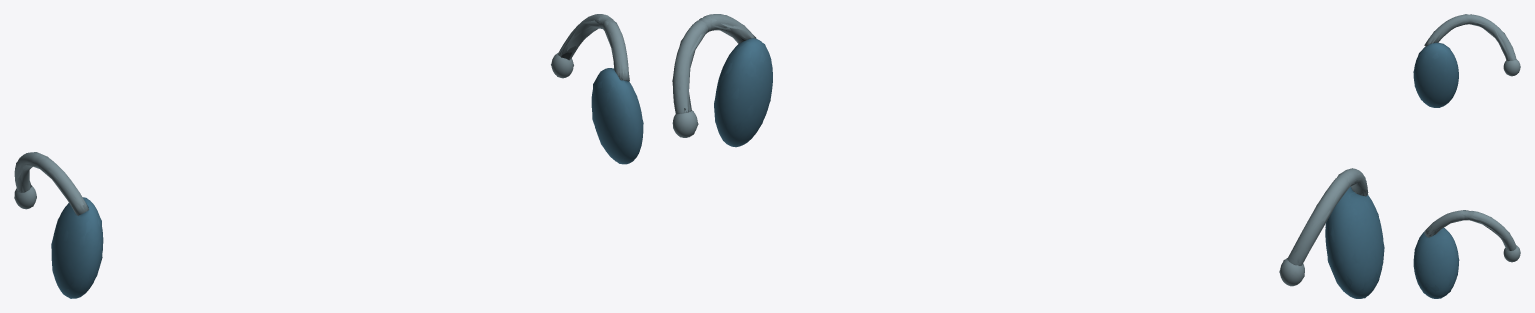
Rendered from hearing-aids.glb.
The picture shows the model from 3 angles, left to right: view 1: azimuth 30°, elevation 25°; view 2: azimuth 150°, elevation 25°; view 3: azimuth 270°, elevation 25°; orthographic projection. The views are drawn at different scales.
Parts seen in each view (by area): view 1: near, mid, far; view 2: near, mid, far; view 3: near, mid, far.
Boxes of the visible parts, x1,y1,x2,y2 form: near: (14, 14, 643, 298); mid: (15, 14, 643, 298); far: (14, 14, 643, 298); near: (673, 14, 1383, 298); mid: (672, 14, 1383, 298); far: (672, 15, 1384, 298); near: (1413, 14, 1520, 298); mid: (1413, 14, 1520, 298); far: (1413, 14, 1520, 298).
Bounding box in the file's own units: 1.12 × 0.2363 × 0.2532.
2 materials, 2 textured.
